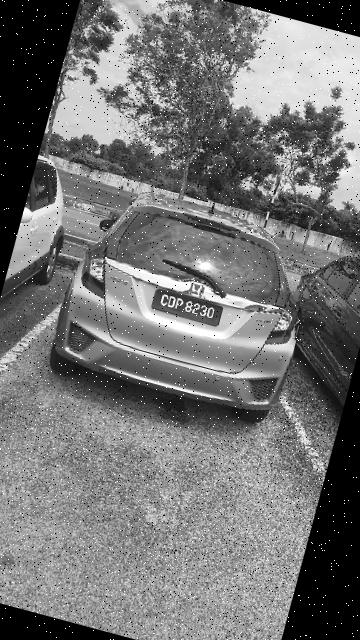License_Plate: (146, 282, 229, 330)
car: (43, 174, 328, 440)
